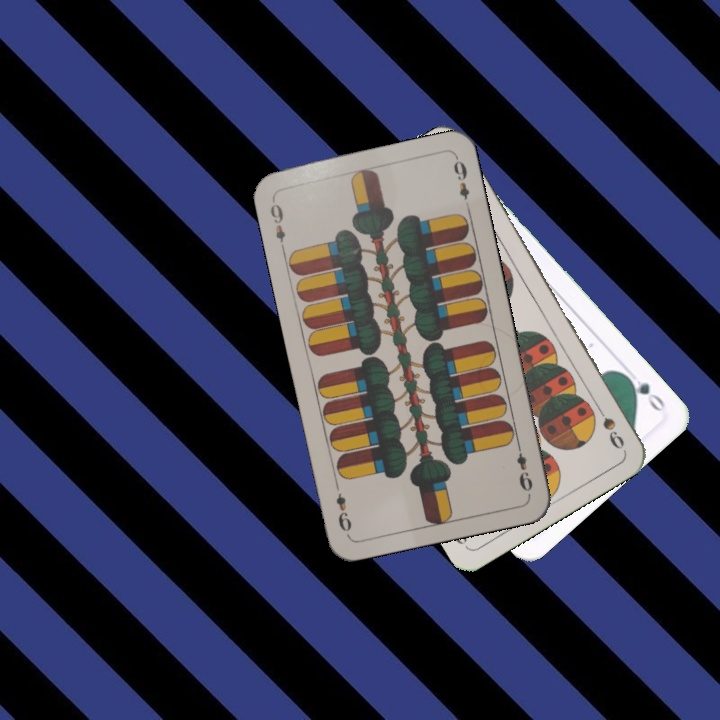E9: (512, 438, 536, 494), (266, 194, 288, 253)
GO: (620, 370, 668, 416)
S9: (590, 398, 627, 452)
